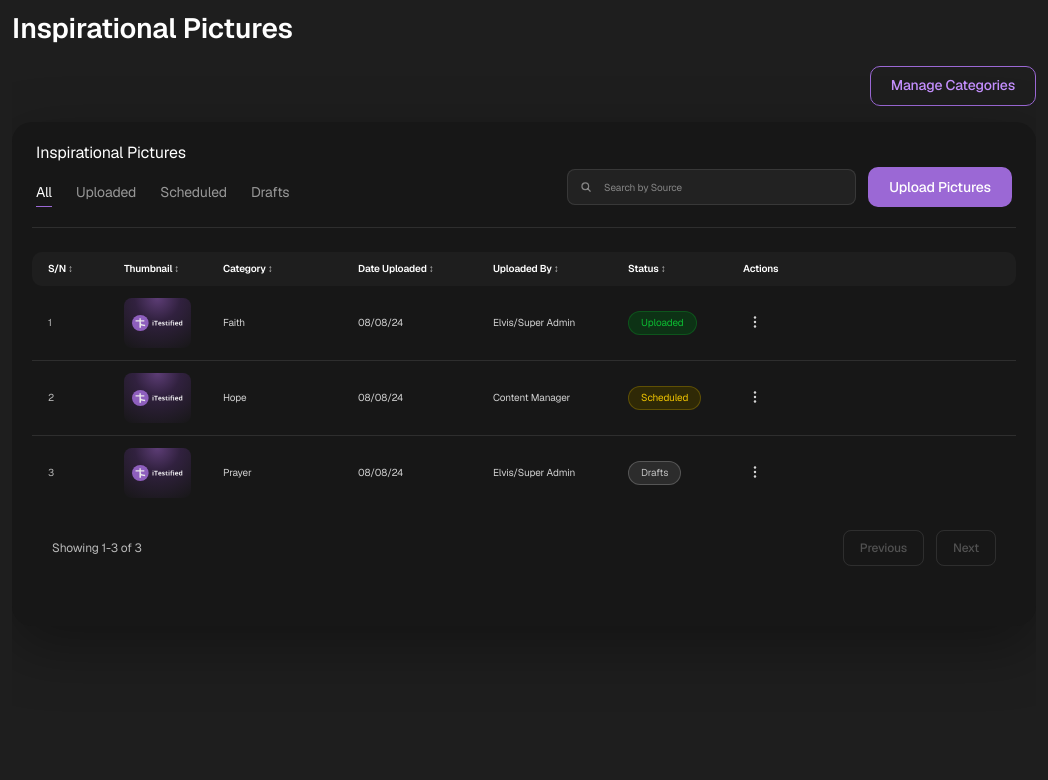
InspirationalPicturesPage › opens and closes picture action menu without an extra fetch
This screenshot has width=1048, height=780.
Click the button named "Open actions for picture 1".
click(755, 322)  # box [743,310,767,334]
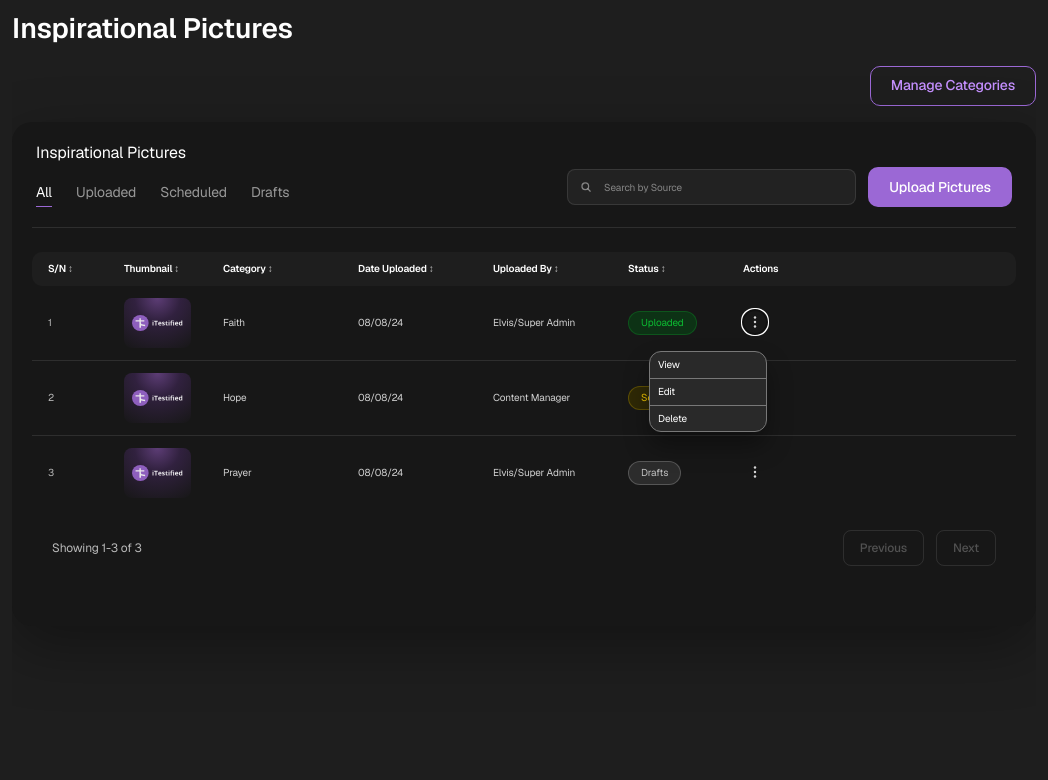
Now the button "View" is shown, box [650,352,766,379]
Click the button named "Close inspirational pictures action menu".
click(524, 396)  # box [12,12,1036,779]
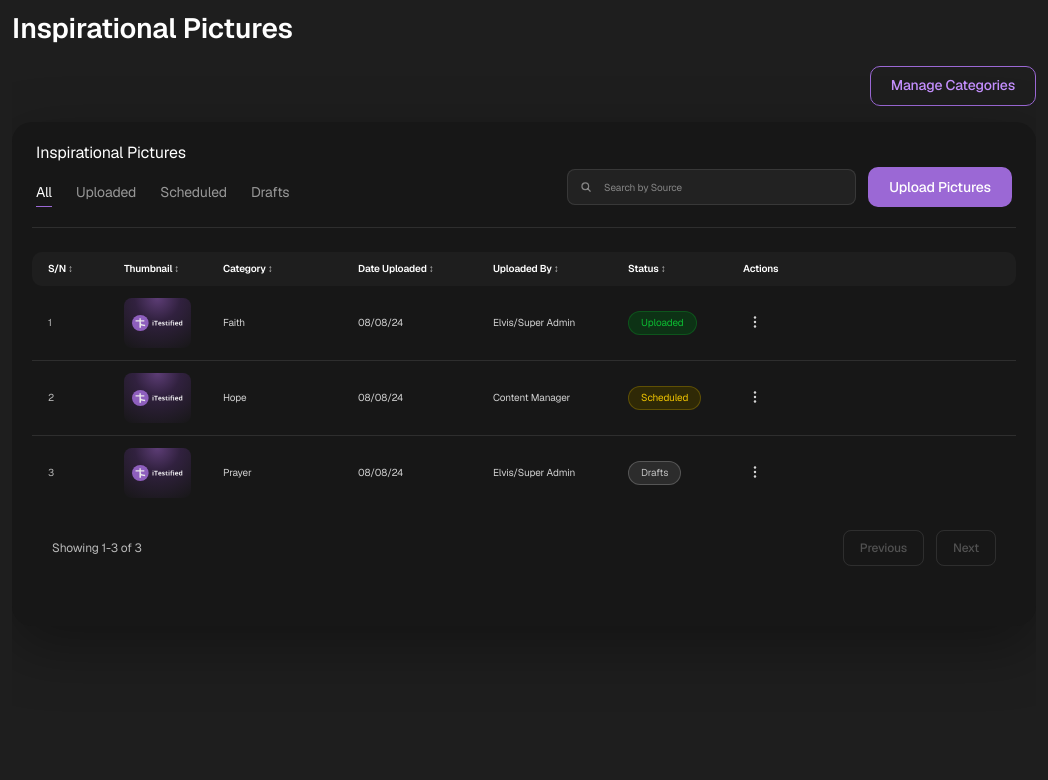
Now the button "View" is gone
